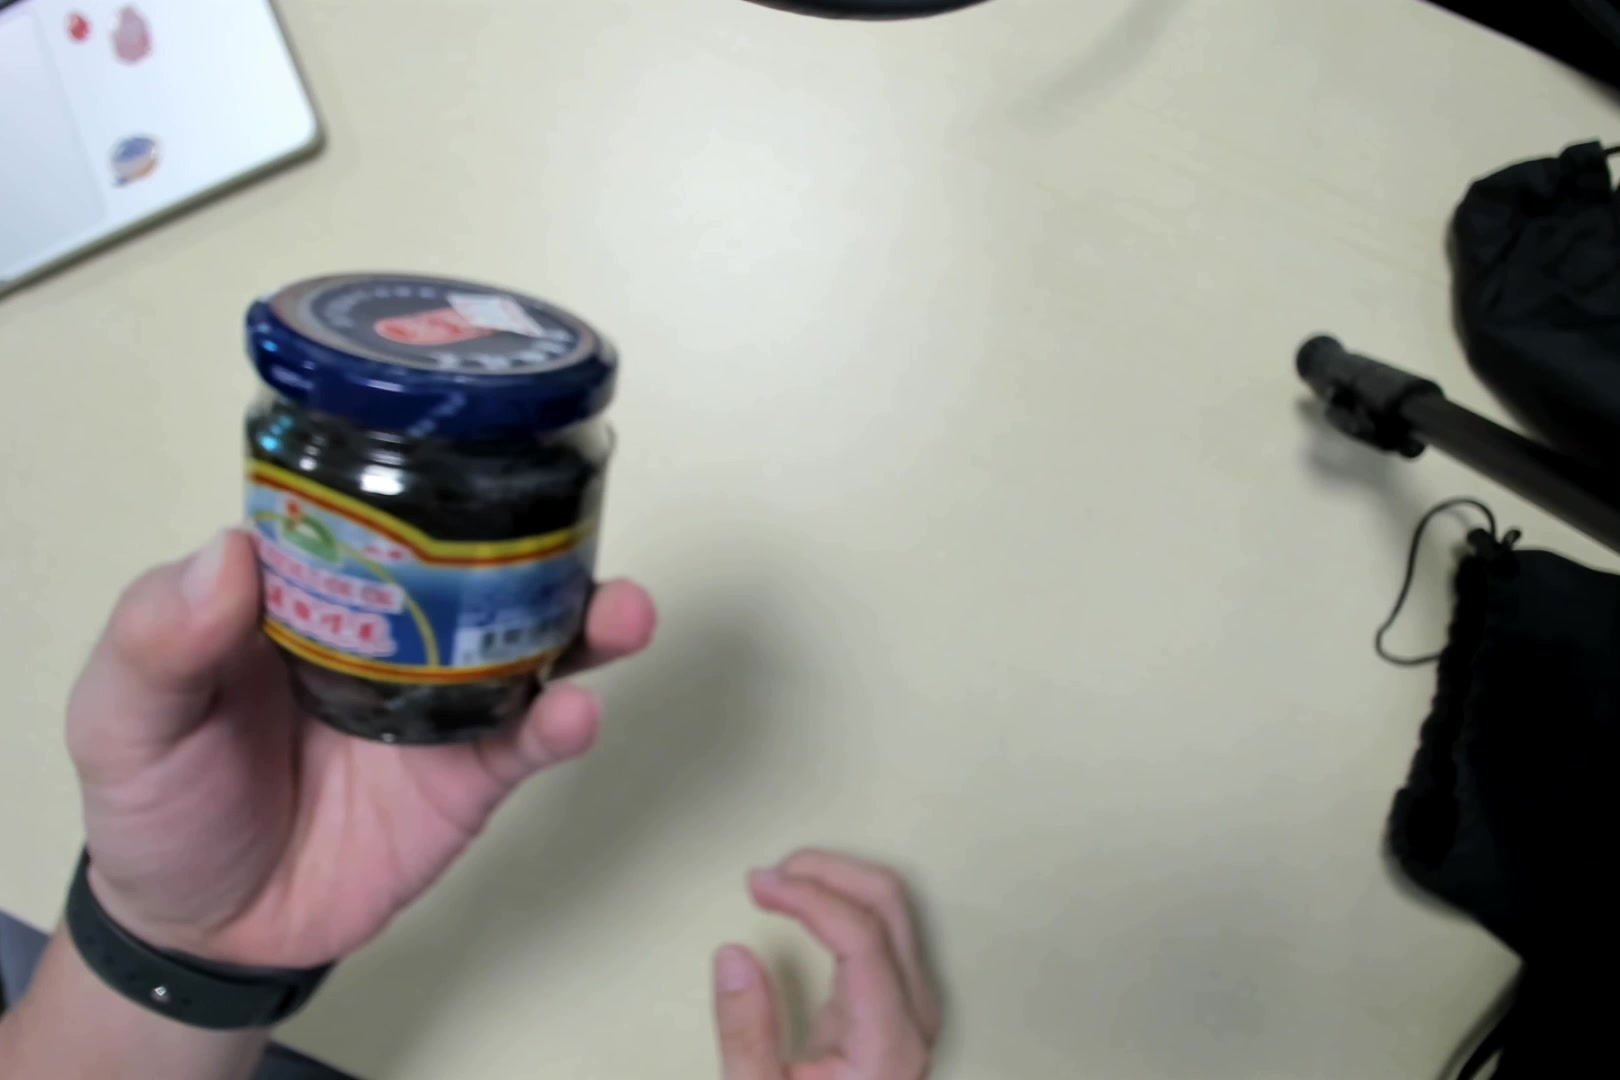OtherCannedVegetables_100-199g_Halal_NonHealthy: (234, 281, 614, 730)
